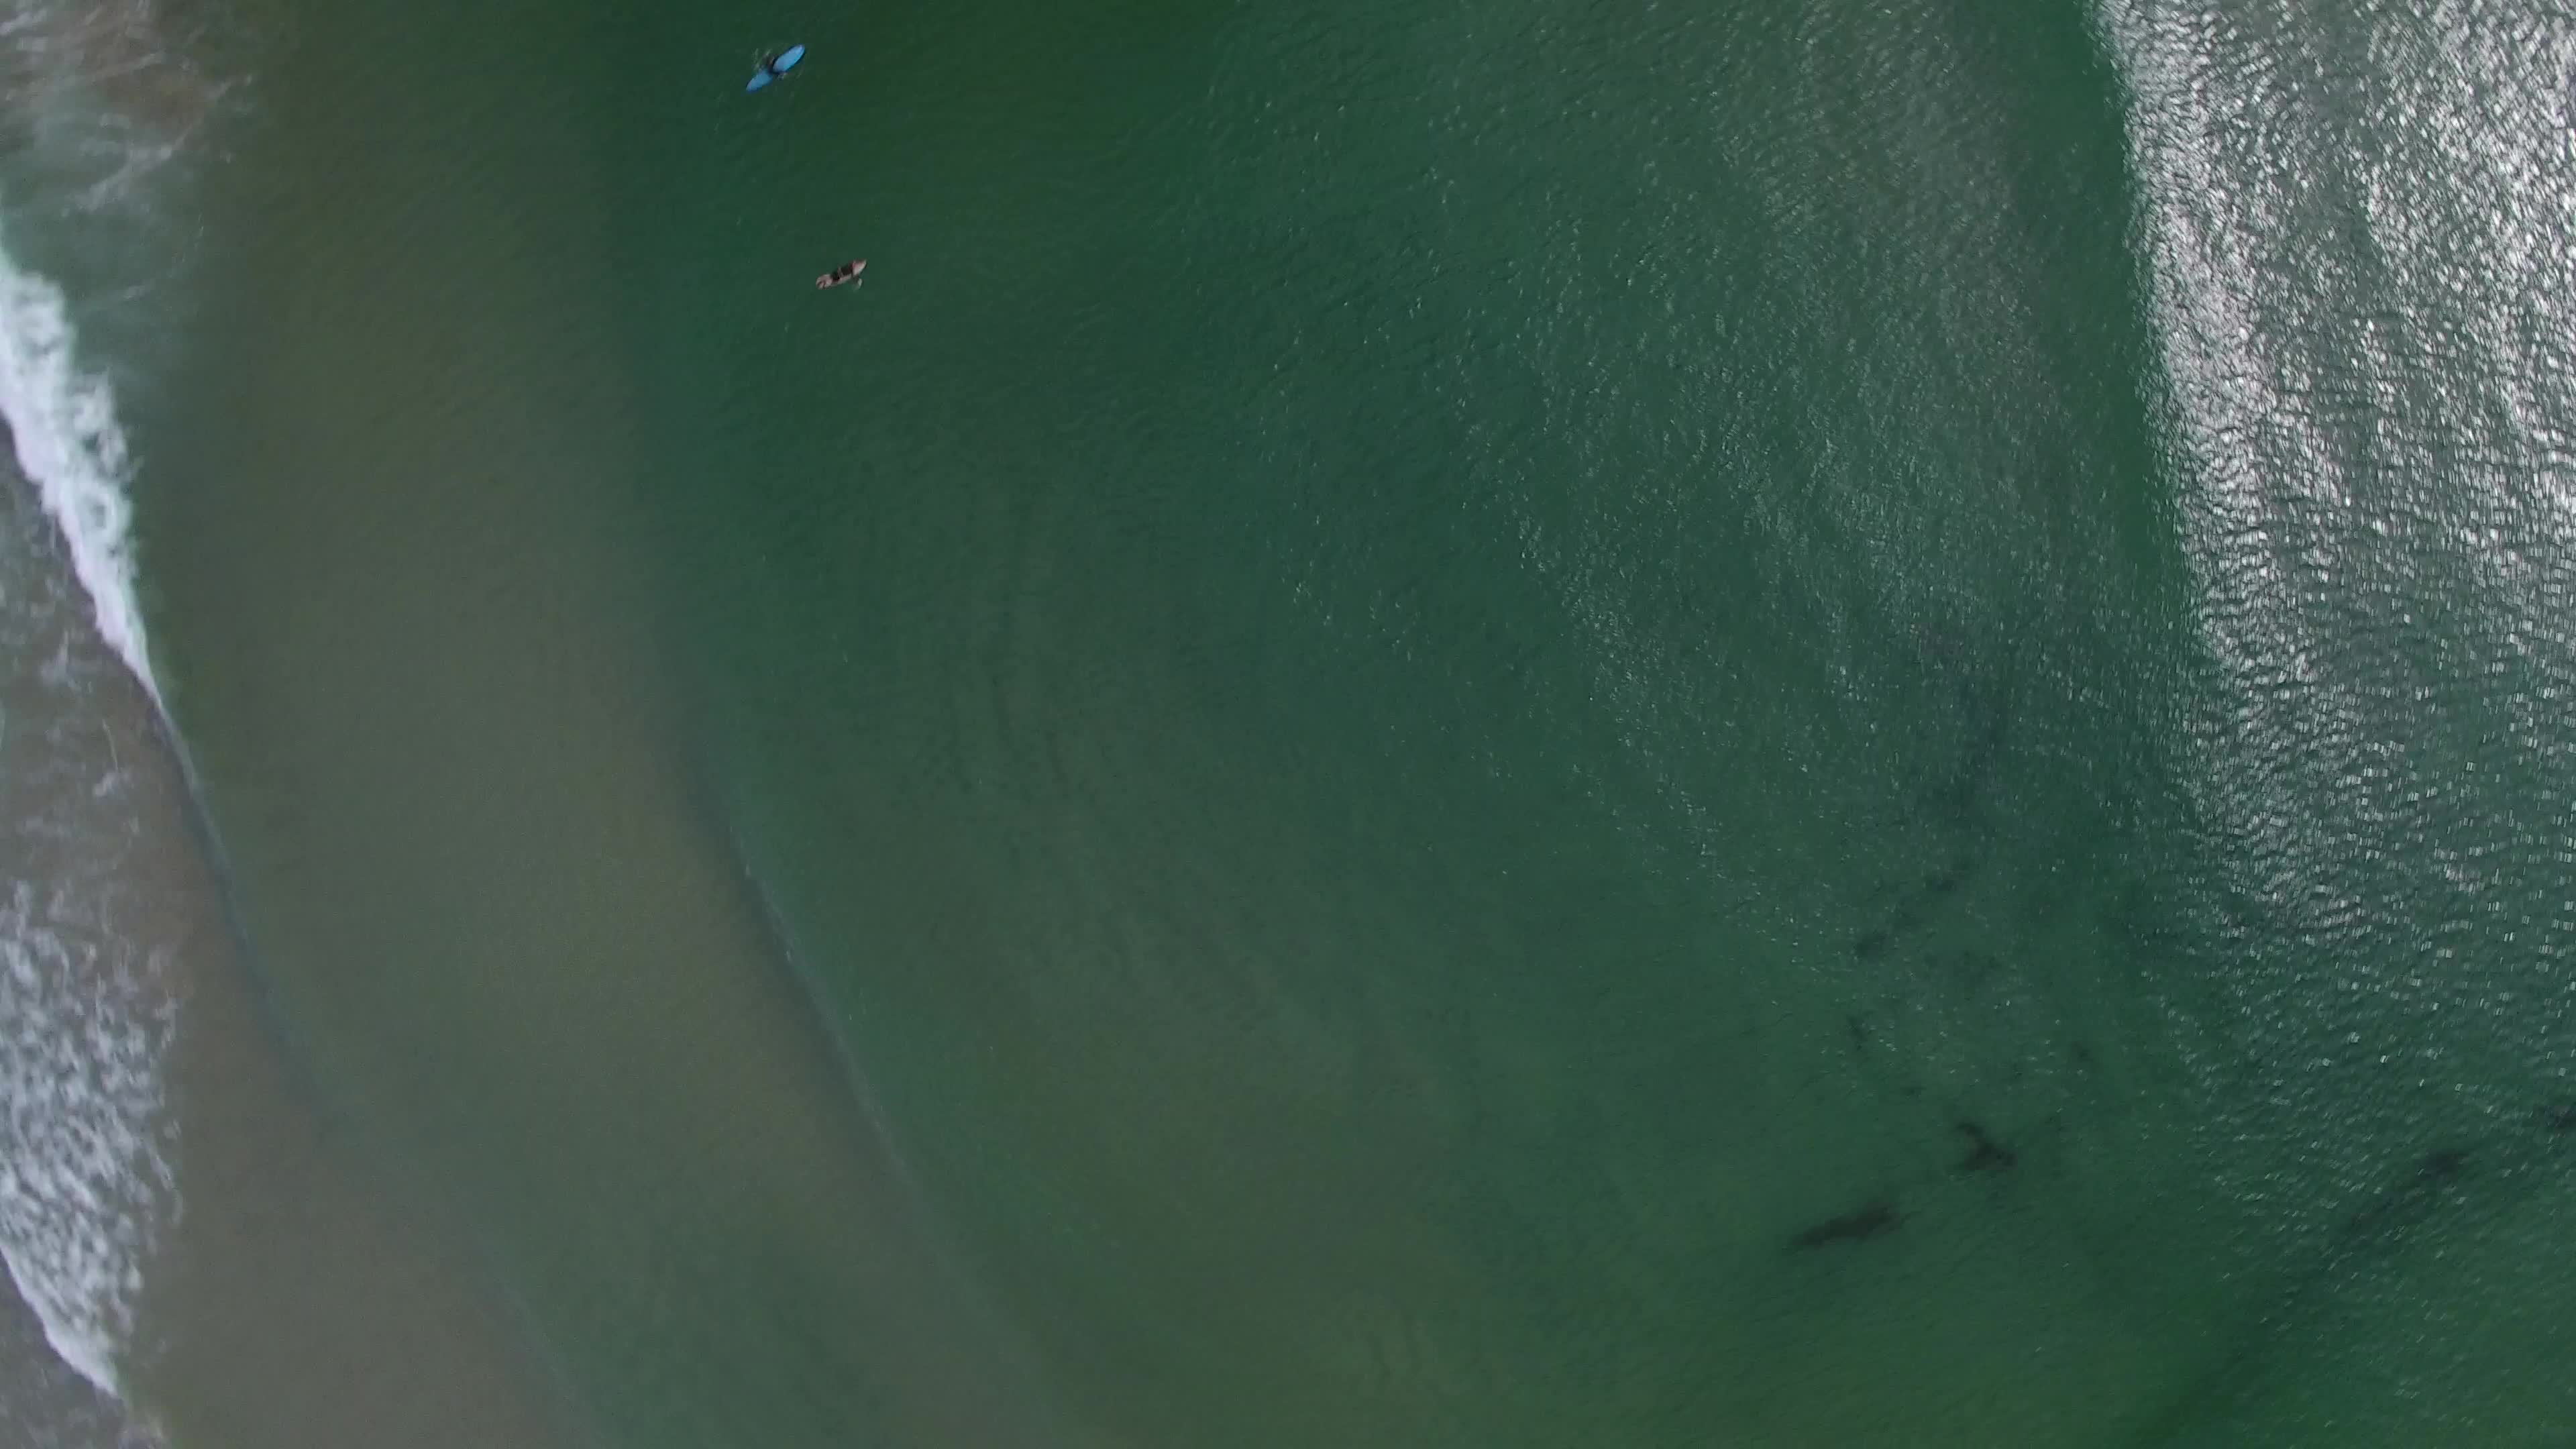surfer: (738, 41, 810, 99), (807, 253, 878, 297)
